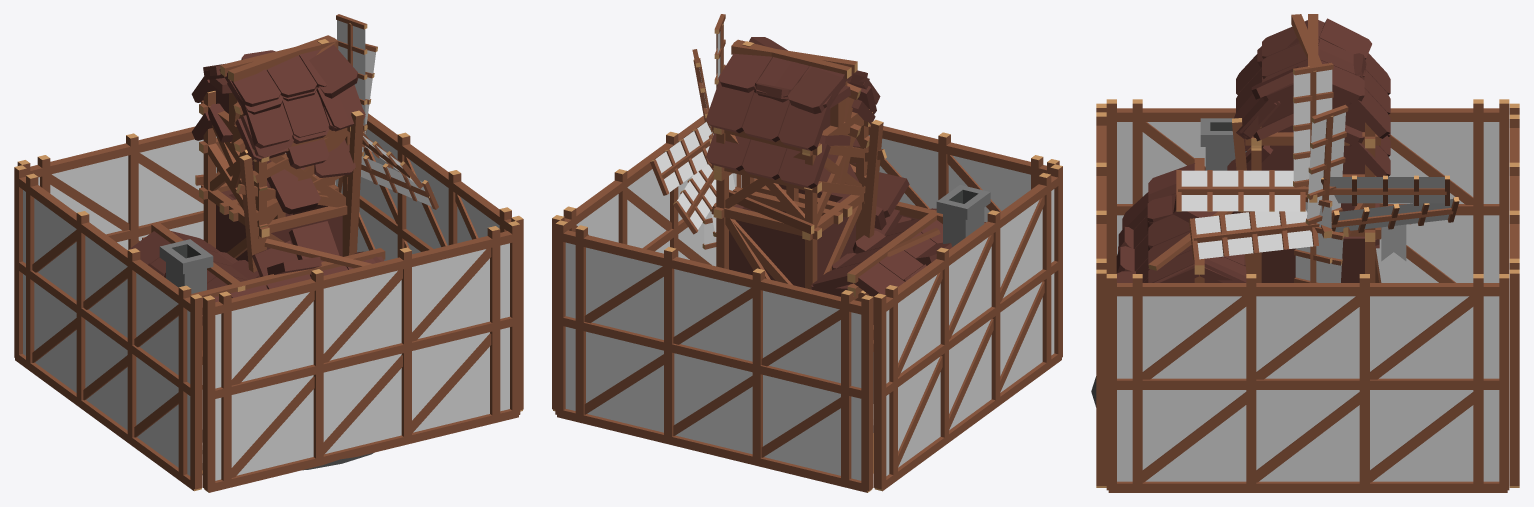
Rendered from Windmill.fbx.
The picture shows the model from 3 angles, left to right: view 1: azimuth 30°, elevation 25°; view 2: azimuth 150°, elevation 25°; view 3: azimuth 270°, elevation 25°; orthographic projection. The views are drawn at different scales.
Parts seen in each view (by area): view 1: Scaffold, Destruction_phase_3, Carcass, Roof, Destruction_phase_2, Destruction_phase_1, Windmill_wings, First_Floor, Second_Floor; view 2: Scaffold, Destruction_phase_3, Carcass, Roof, Destruction_phase_2, Destruction_phase_1, Second_Floor, Windmill_wings, First_Floor; view 3: Scaffold, Destruction_phase_3, Windmill_wings, Roof, Carcass, Destruction_phase_1, Destruction_phase_2, First_Floor, Second_Floor, Flag_2.
Part boxes in pixels (bbox=[...]): Scaffold: bbox=[14, 113, 523, 492]; Destruction_phase_3: bbox=[148, 43, 438, 321]; Carcass: bbox=[151, 37, 385, 389]; Roof: bbox=[128, 49, 384, 325]; Destruction_phase_2: bbox=[164, 42, 380, 291]; Destruction_phase_1: bbox=[201, 35, 344, 251]; Windmill_wings: bbox=[285, 14, 423, 188]; First_Floor: bbox=[159, 239, 213, 454]; Second_Floor: bbox=[215, 89, 342, 261]; Scaffold: bbox=[552, 115, 1062, 492]; Destruction_phase_3: bbox=[673, 49, 985, 288]; Carcass: bbox=[711, 39, 985, 337]; Roof: bbox=[706, 53, 942, 297]; Destruction_phase_2: bbox=[725, 37, 952, 351]; Destruction_phase_1: bbox=[731, 43, 936, 421]; Second_Floor: bbox=[729, 82, 855, 287]; Windmill_wings: bbox=[650, 14, 736, 249]; First_Floor: bbox=[869, 184, 990, 324]; Scaffold: bbox=[1096, 99, 1519, 492]; Destruction_phase_3: bbox=[1116, 104, 1459, 282]; Windmill_wings: bbox=[1176, 62, 1449, 282]; Roof: bbox=[1127, 20, 1390, 282]; Carcass: bbox=[1194, 14, 1380, 282]; Destruction_phase_1: bbox=[1147, 14, 1371, 250]; Destruction_phase_2: bbox=[1117, 53, 1410, 282]; First_Floor: bbox=[1184, 118, 1246, 282]; Second_Floor: bbox=[1261, 95, 1364, 217]; Flag_2: bbox=[1381, 224, 1406, 253].
Bounding box in the file's own units: 4.1 × 4.13 × 4.15.
